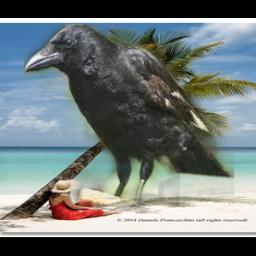Crow: (25, 25, 235, 207)
